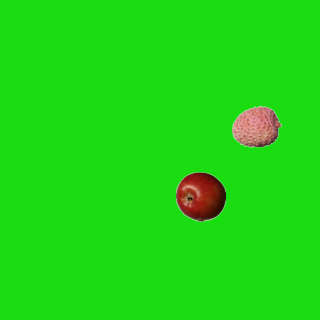Apple Braeburn: (175, 171, 225, 221)
Lychee: (231, 101, 281, 151)
